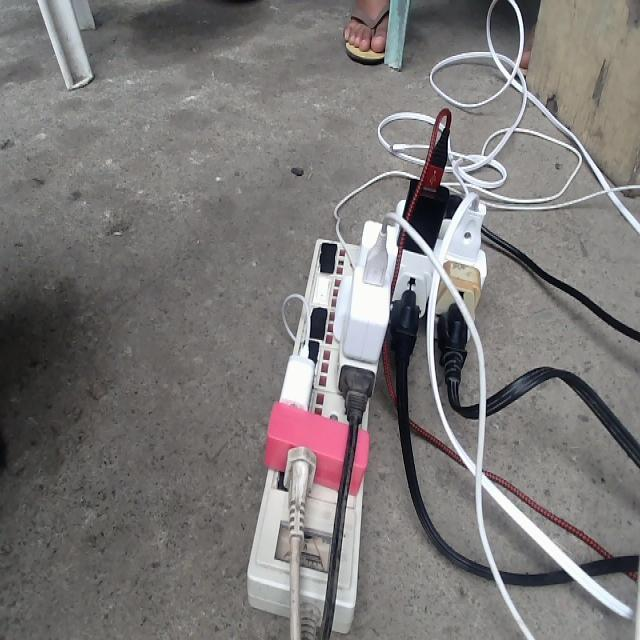-: (242, 166, 493, 638)
